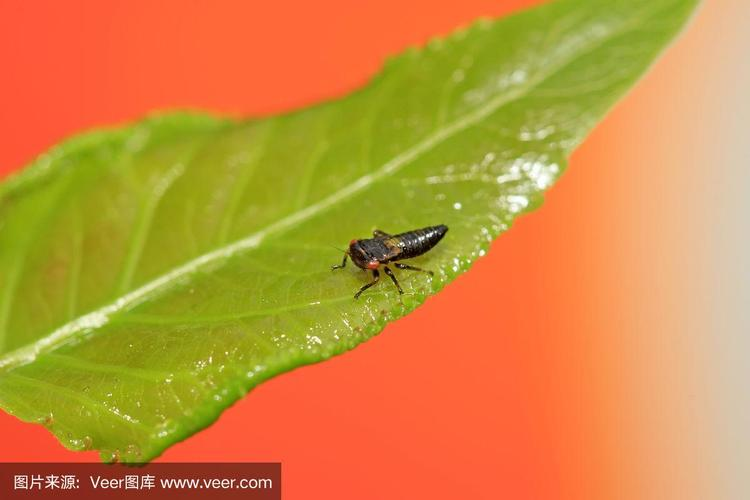Cicadellidae: (335, 223, 449, 288)
